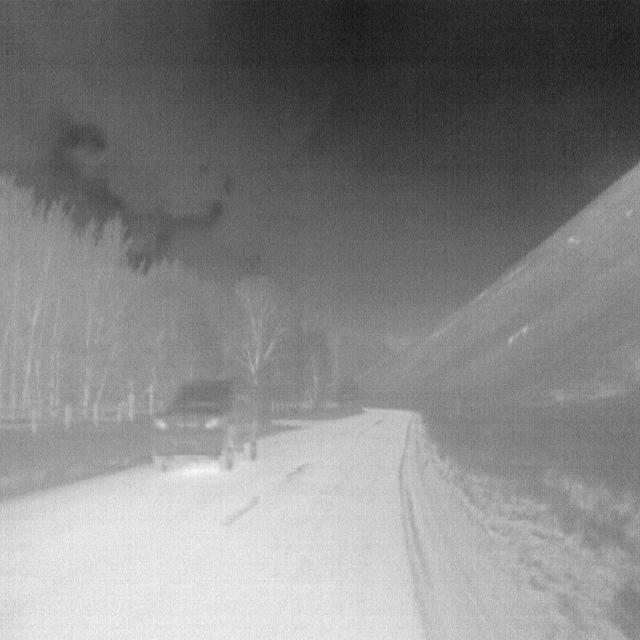Vehicle: (148, 375, 260, 473)
